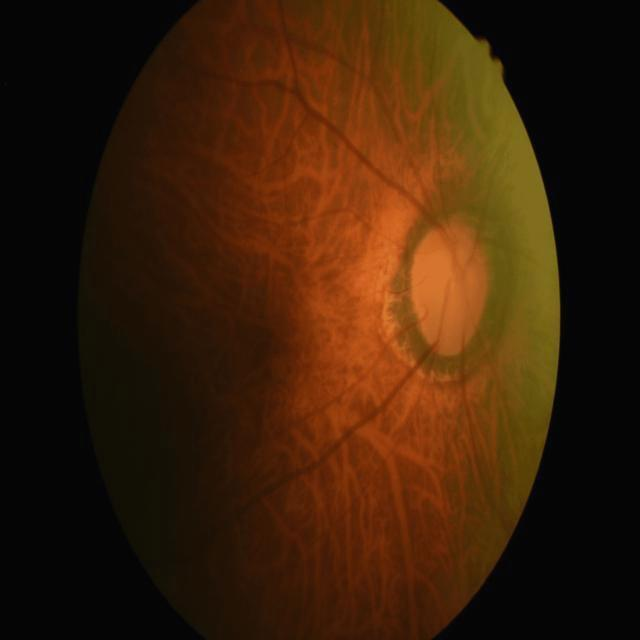cup: (430, 237, 478, 341)
disk: (412, 216, 490, 356)
